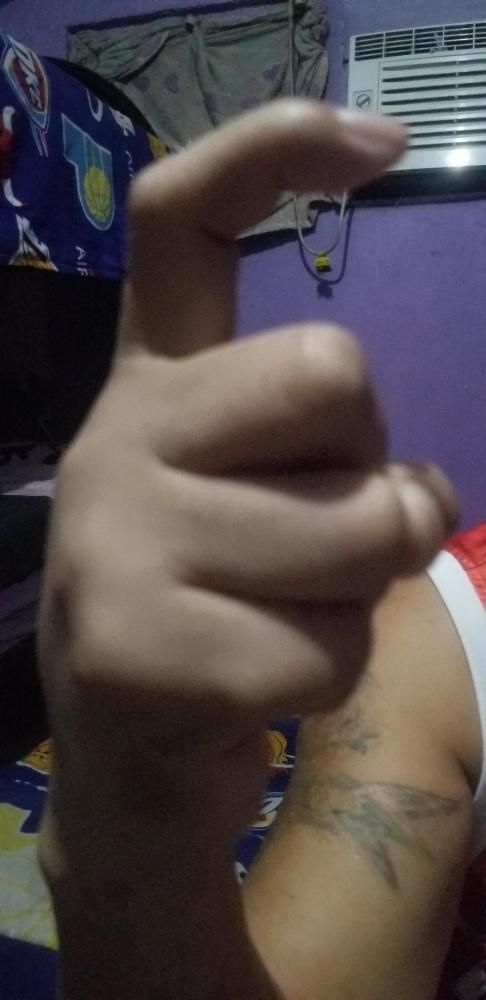x: (34, 95, 452, 785)
